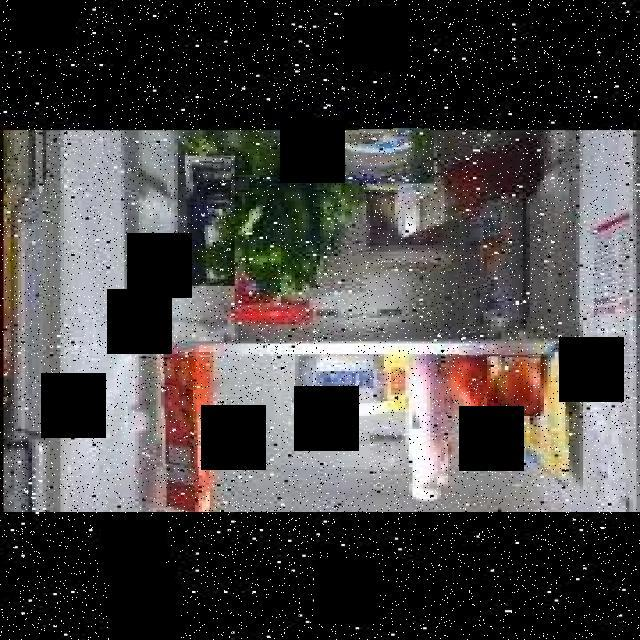cheese: (342, 128, 430, 181)
egg: (487, 353, 541, 413)
marmelade: (181, 154, 231, 284)
tomato: (441, 351, 483, 411)
tomato_sauce: (156, 350, 210, 512)
